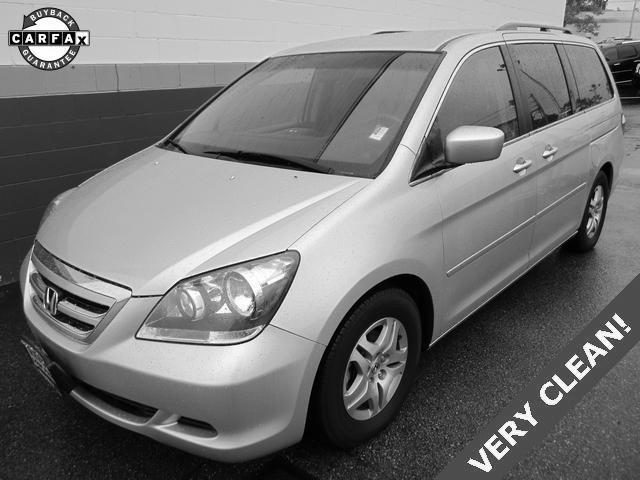car: (18, 23, 630, 461)
